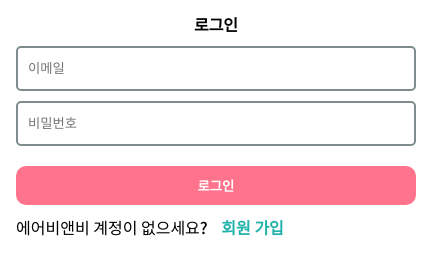
LoginPage › Interactions › 로그인 실패 후 인풋 값 변경시, 에러메세지 사라짐
Type "test@google.com" into the field with placeholder "이메일". click: (216, 68)
box: [16,46,416,91]
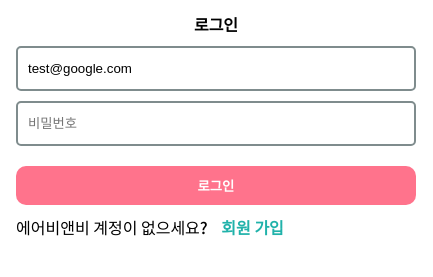
Type "P4ssword" into the password field with placeholder "비밀번호". click: (216, 124)
box: [16,101,416,146]
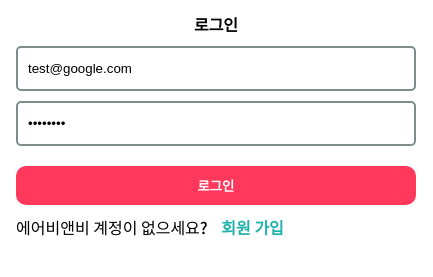
Click the button "로그인". click: (216, 186)
box: [16,166,416,205]
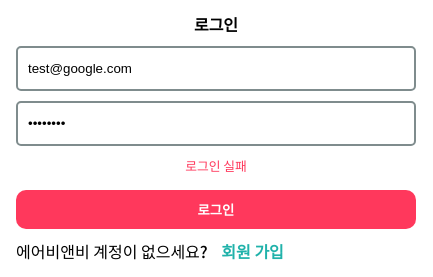
Type "differ" into the password field with placeholder "비밀번호". click: (216, 124)
box: [16,101,416,146]
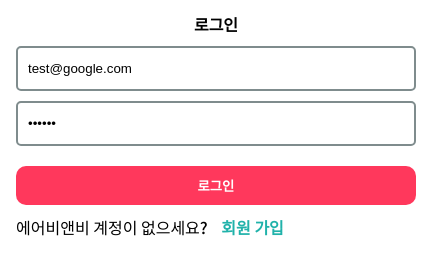
Expected: the text "로그인 실패" is gone
